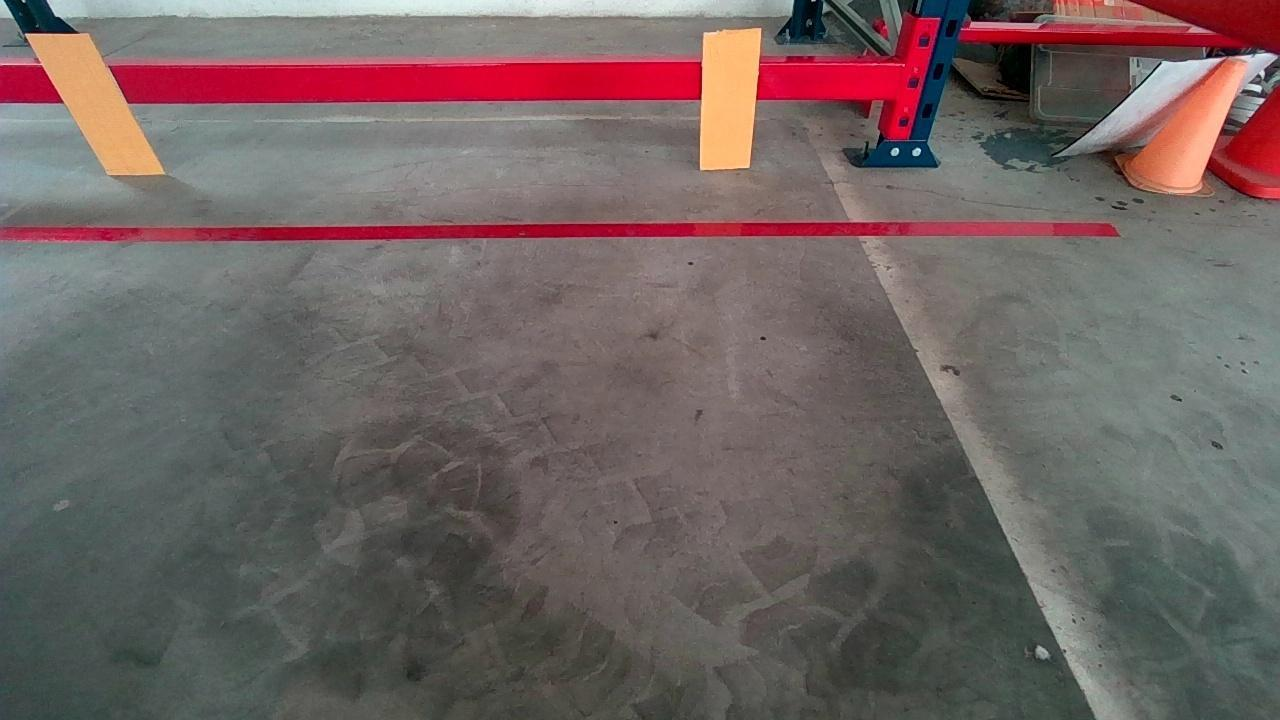h_rack: (7, 61, 900, 107)
orange_strip: (28, 33, 168, 176), (700, 30, 760, 169)
red_line: (0, 220, 1118, 240)
